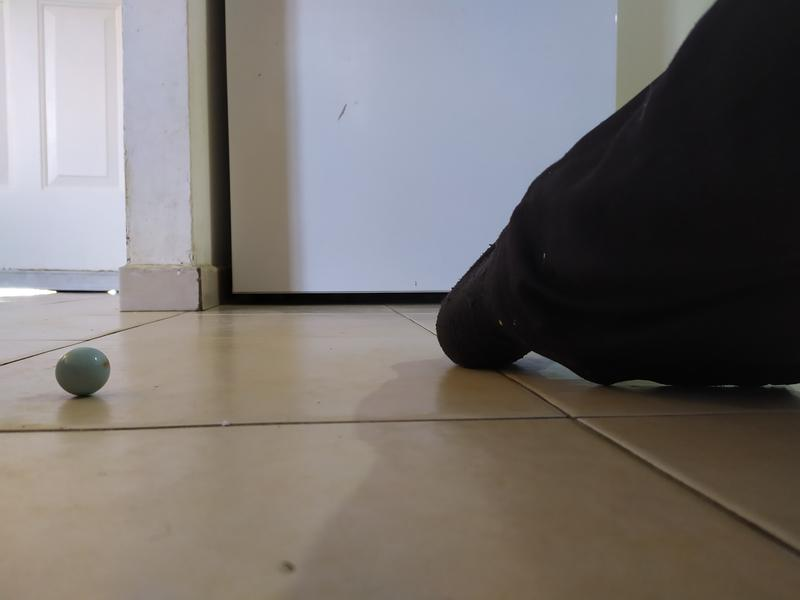Warning: (52, 344, 113, 399)
